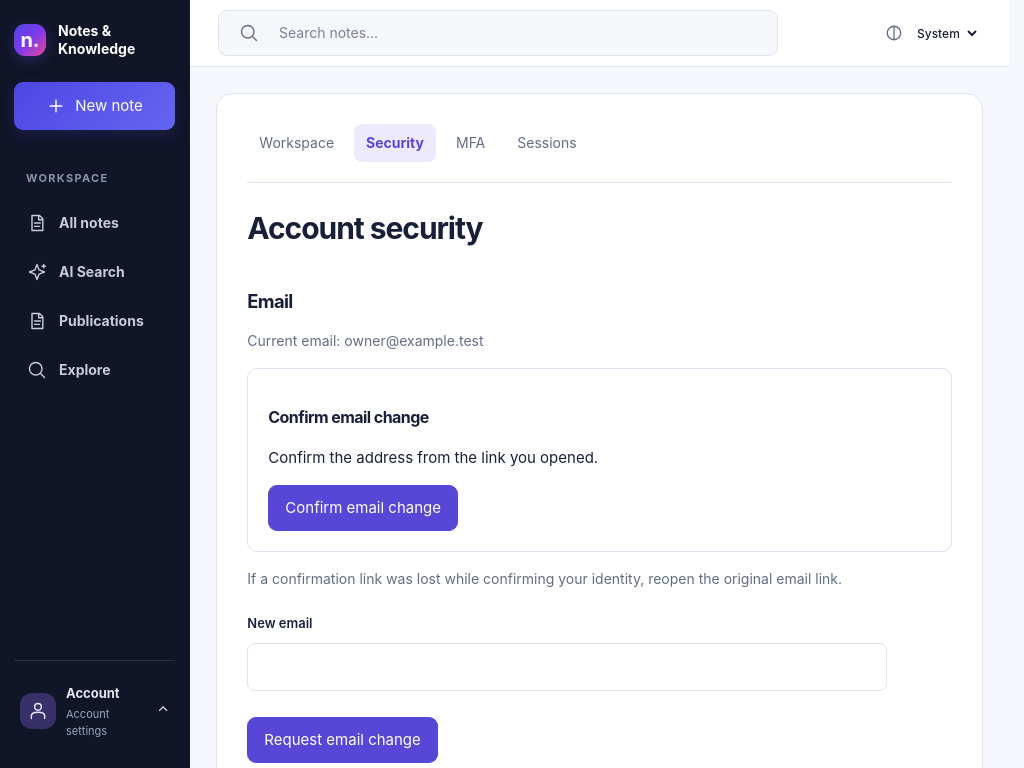
Test: security settings browser journey › scrubs email-change fragment before rendering and clears token after confirmation
Click the button "Confirm email change".
click(363, 508)  # box [268,485,458,531]
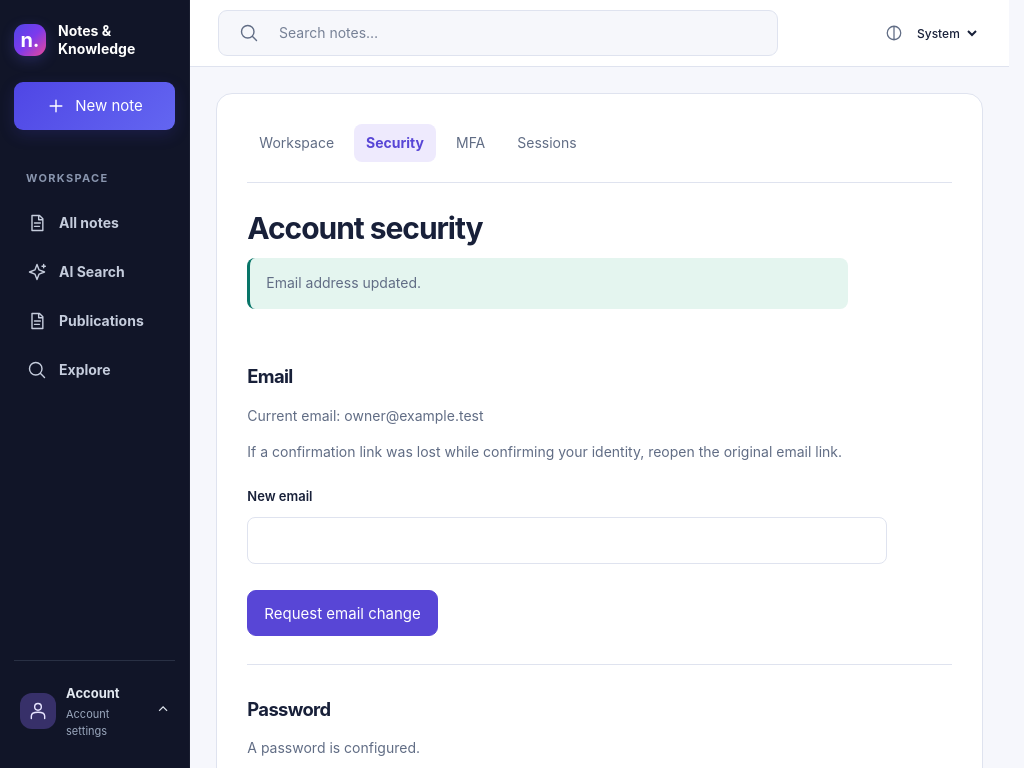
Check: the text "Email address updated." is shown, box [247,258,848,309]
